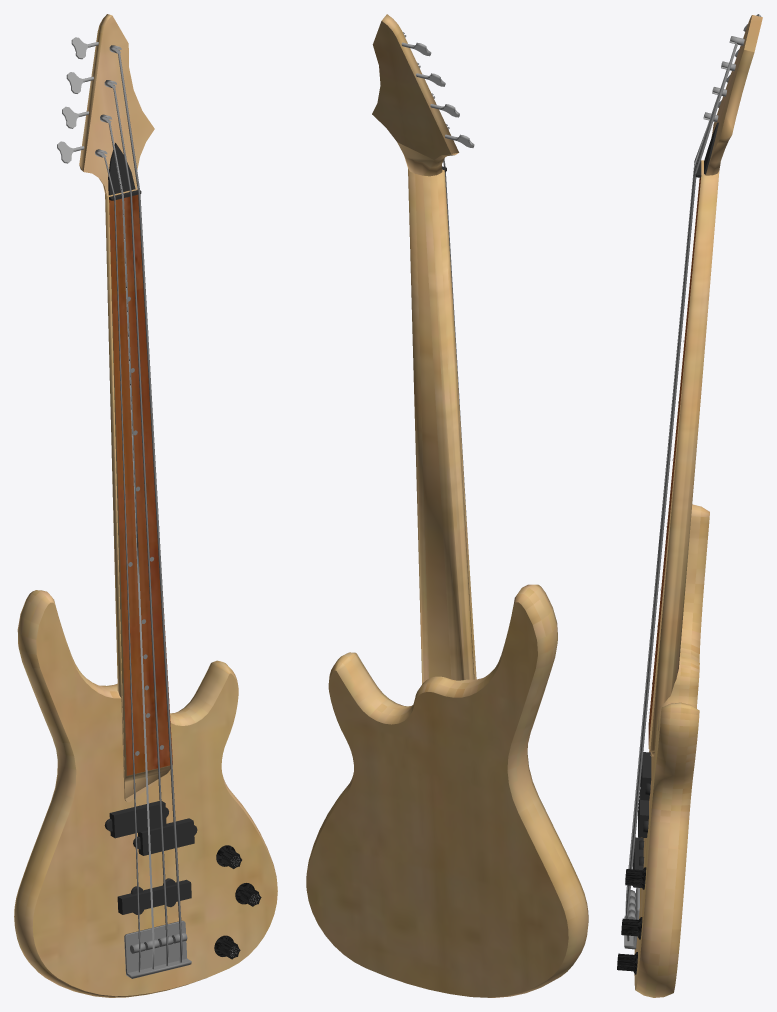
File: bass.obj
3 renders of one model, left to right at view 1: azimuth 30°, elevation 25°; view 2: azimuth 150°, elevation 25°; view 3: azimuth 270°, elevation 25°, orthographic. The views are drawn at different scales.
Parts seen in each view (by area): view 1: mesh1_mesh1-geometry, mesh4_mesh4-geometry, mesh7_mesh7-geometry, mesh65_mesh65-geometry, mesh60_mesh60-geometry, mesh55_mesh55-geometry, mesh35_mesh35-geometry, mesh50_mesh50-geometry, mesh15_mesh15-geometry, mesh31_mesh31-geometry, mesh21_mesh21-geometry, mesh9_mesh9-geometry; view 2: mesh1_mesh1-geometry, mesh4_mesh4-geometry, mesh7_mesh7-geometry; view 3: mesh1_mesh1-geometry, mesh4_mesh4-geometry, mesh65_mesh65-geometry, mesh7_mesh7-geometry, mesh55_mesh55-geometry, mesh60_mesh60-geometry, mesh50_mesh50-geometry, mesh15_mesh15-geometry, mesh21_mesh21-geometry.
Part boxes in pixels (x1=…): mesh1_mesh1-geometry: x1=14, y1=590, x2=277, y2=997; mesh4_mesh4-geometry: x1=105, y1=188, x2=172, y2=802; mesh7_mesh7-geometry: x1=79, y1=14, x2=154, y2=195; mesh65_mesh65-geometry: x1=118, y1=50, x2=182, y2=962; mesh60_mesh60-geometry: x1=113, y1=85, x2=168, y2=965; mesh55_mesh55-geometry: x1=108, y1=119, x2=154, y2=969; mesh35_mesh35-geometry: x1=124, y1=920, x2=191, y2=978; mesh50_mesh50-geometry: x1=103, y1=154, x2=140, y2=972; mesh15_mesh15-geometry: x1=109, y1=801, x2=166, y2=838; mesh31_mesh31-geometry: x1=117, y1=879, x2=191, y2=914; mesh21_mesh21-geometry: x1=138, y1=818, x2=194, y2=855; mesh9_mesh9-geometry: x1=108, y1=143, x2=135, y2=195; mesh1_mesh1-geometry: x1=306, y1=584, x2=588, y2=997; mesh4_mesh4-geometry: x1=408, y1=168, x2=476, y2=684; mesh7_mesh7-geometry: x1=372, y1=14, x2=459, y2=176; mesh1_mesh1-geometry: x1=634, y1=504, x2=709, y2=997; mesh4_mesh4-geometry: x1=648, y1=160, x2=719, y2=756; mesh65_mesh65-geometry: x1=625, y1=43, x2=737, y2=941; mesh7_mesh7-geometry: x1=705, y1=15, x2=762, y2=175; mesh55_mesh55-geometry: x1=625, y1=94, x2=718, y2=907; mesh60_mesh60-geometry: x1=625, y1=69, x2=726, y2=912; mesh50_mesh50-geometry: x1=626, y1=131, x2=705, y2=897; mesh15_mesh15-geometry: x1=640, y1=752, x2=651, y2=800; mesh21_mesh21-geometry: x1=638, y1=789, x2=648, y2=837.
Bounding box in the file's own units: 33.01 × 116 × 16.07.
7 materials, 2 textured.
